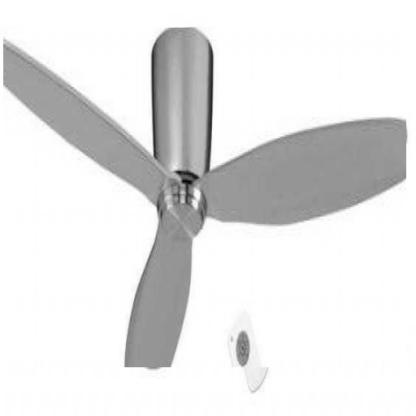ceiling-fan: (3, 28, 407, 368)
